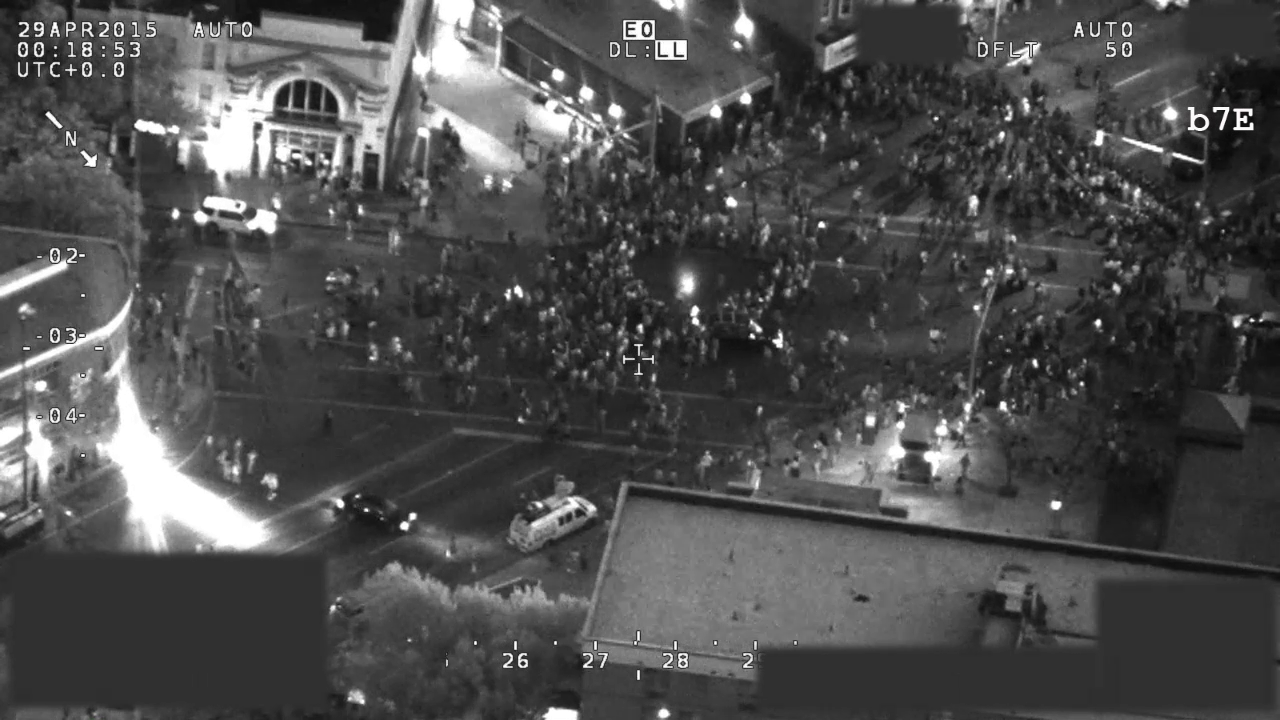vehicle: (500, 470, 602, 562), (1168, 104, 1266, 180), (688, 305, 799, 356), (326, 484, 423, 539), (191, 191, 281, 241), (1191, 45, 1273, 97)
